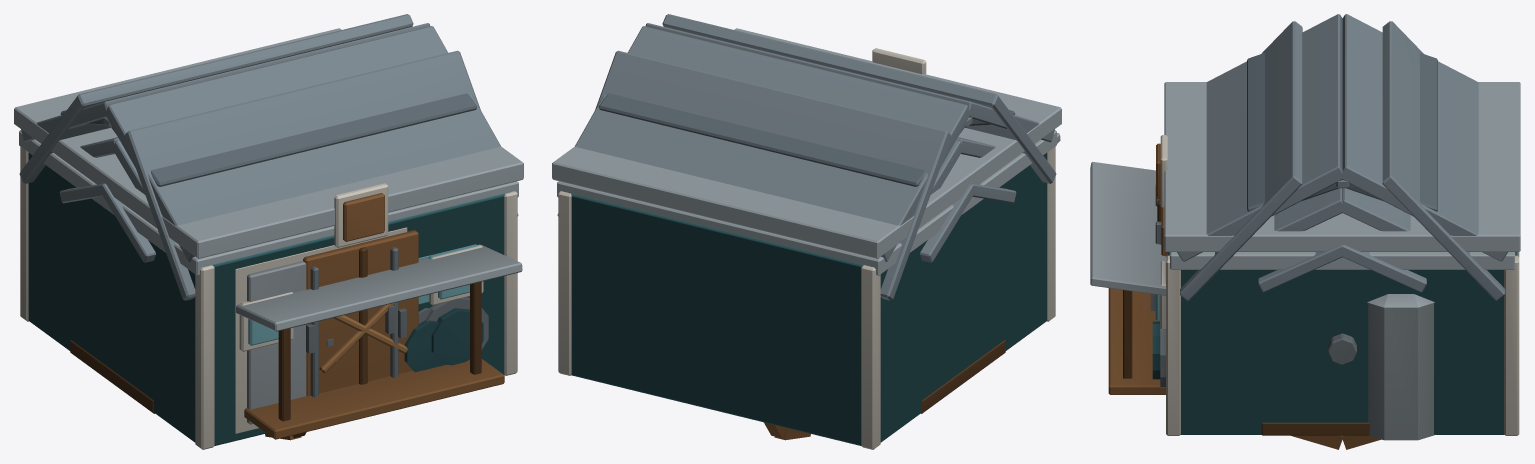
Rendered from buildings.glb.
3 renders of one model, left to right at view 1: azimuth 30°, elevation 25°; view 2: azimuth 150°, elevation 25°; view 3: azimuth 270°, elevation 25°, orthographic. The views are drawn at different scales.
Visible parts, largest first — view 1: SM_building_barn, SM_building_cold_store, SM_building_mill, SM_building_worker_hut, SM_building_creamery, SM_building_preserve_kitchen, SM_building_loading_pad; view 2: SM_building_barn, SM_building_mill, SM_building_cold_store, SM_building_creamery, SM_building_preserve_kitchen, SM_building_loading_pad, SM_building_worker_hut; view 3: SM_building_barn, SM_building_mill, SM_building_cold_store, SM_building_worker_hut, SM_building_creamery, SM_building_preserve_kitchen, SM_building_loading_pad, SM_building_mill_wheel.
Boxes of the visible parts, box(x1,y1,x2,y2) form: SM_building_barn: box(19, 14, 518, 449); SM_building_cold_store: box(14, 28, 523, 433); SM_building_mill: box(21, 23, 500, 261); SM_building_worker_hut: box(80, 137, 522, 439); SM_building_creamery: box(19, 130, 518, 372); SM_building_preserve_kitchen: box(59, 183, 155, 262); SM_building_loading_pad: box(70, 340, 154, 413); SM_building_barn: box(557, 14, 1056, 449); SM_building_mill: box(575, 23, 1054, 261); SM_building_cold_store: box(552, 28, 1061, 258); SM_building_creamery: box(557, 130, 1056, 275); SM_building_preserve_kitchen: box(920, 183, 1016, 262); SM_building_loading_pad: box(921, 340, 1005, 413); SM_building_worker_hut: box(930, 133, 1060, 194); SM_building_barn: box(1150, 21, 1519, 435); SM_building_mill: box(1167, 14, 1507, 364); SM_building_cold_store: box(1152, 82, 1520, 386); SM_building_worker_hut: box(1090, 162, 1410, 394); SM_building_creamery: box(1156, 252, 1514, 440); SM_building_preserve_kitchen: box(1258, 244, 1426, 292); SM_building_loading_pad: box(1261, 422, 1369, 435); SM_building_mill_wheel: box(1291, 435, 1380, 449).
Size of the model in its own units: 3.95 by 4.17 by 4.56.
